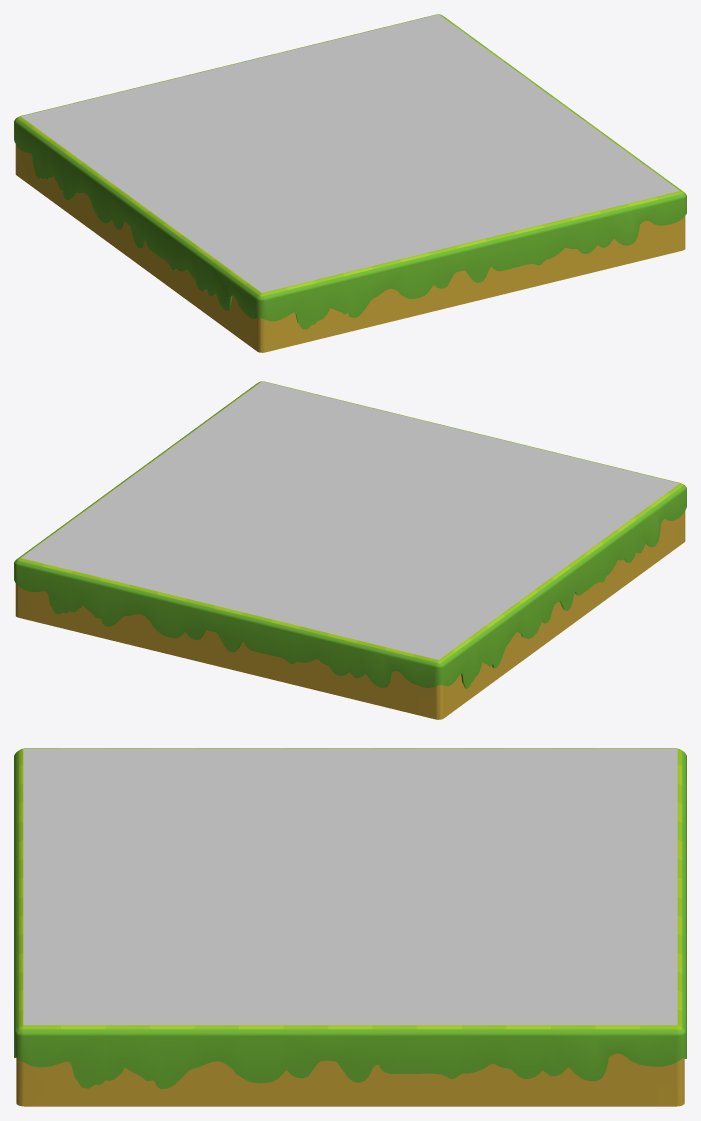
Rendered from map_mesh (1).fbx.
3 views of the same model, one above another, from view 1: azimuth 30°, elevation 25°; view 2: azimuth 150°, elevation 25°; view 3: azimuth 270°, elevation 25° (orthographic). The views are drawn at different scales.
Visible parts, largest first — view 1: map_mesh1, map_mesh2; view 2: map_mesh1, map_mesh2; view 3: map_mesh1, map_mesh2.
Boxes of the visible parts, left/top/right/bottom form: map_mesh1: left=21, top=14, right=679, bottom=292; map_mesh2: left=14, top=14, right=686, bottom=352; map_mesh1: left=21, top=381, right=679, bottom=659; map_mesh2: left=14, top=381, right=686, bottom=719; map_mesh1: left=23, top=749, right=677, bottom=1025; map_mesh2: left=14, top=748, right=686, bottom=1106.
Size of the model in its own units: 64.51 by 8.26 by 64.51.
